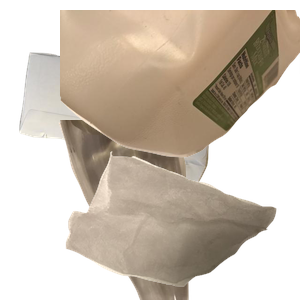glass: (56, 120, 241, 300)
paper: (17, 50, 231, 230)
plastic: (60, 10, 300, 160)
trash: (63, 149, 300, 300)
